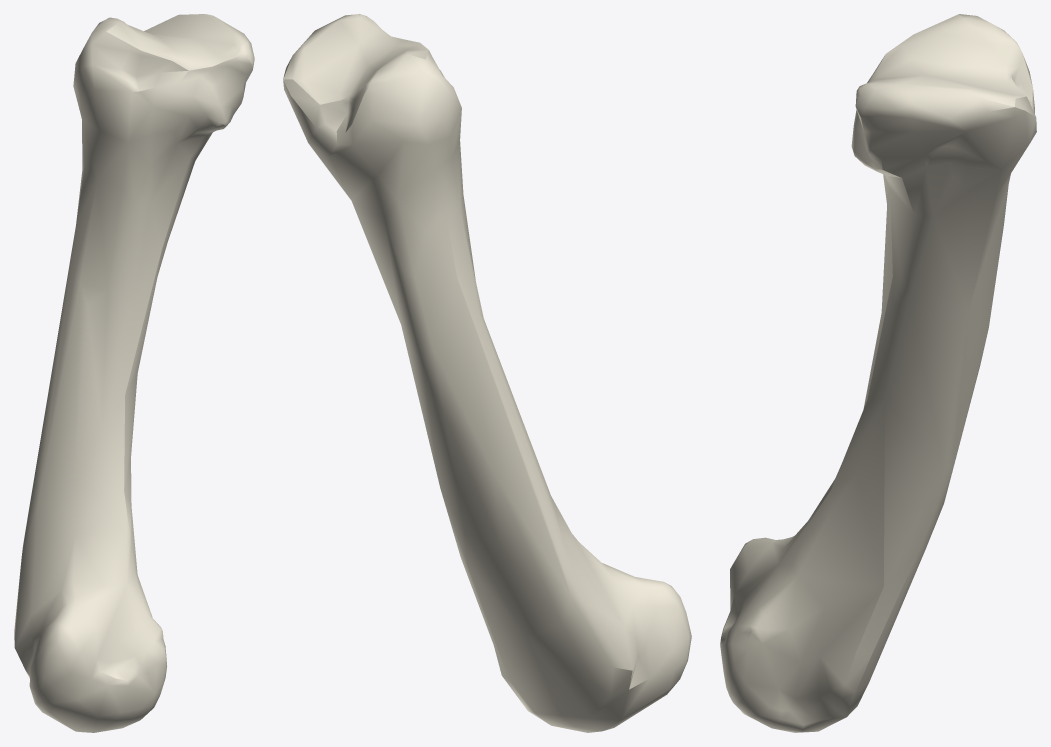
The model's file is fma24466_fj6446.glb.
The picture shows the model from 3 angles, left to right: view 1: azimuth 30°, elevation 25°; view 2: azimuth 150°, elevation 25°; view 3: azimuth 270°, elevation 25°; orthographic projection. The views are drawn at different scales.
Parts seen in each view (by area): view 1: FMA24466_FJ6446; view 2: FMA24466_FJ6446; view 3: FMA24466_FJ6446.
Part boxes in pixels (bbox=[...]): FMA24466_FJ6446: bbox=[14, 14, 254, 732]; FMA24466_FJ6446: bbox=[283, 14, 691, 732]; FMA24466_FJ6446: bbox=[720, 14, 1036, 732].
Size of the model in its own units: 0.0309 by 0.068 by 0.0257.
